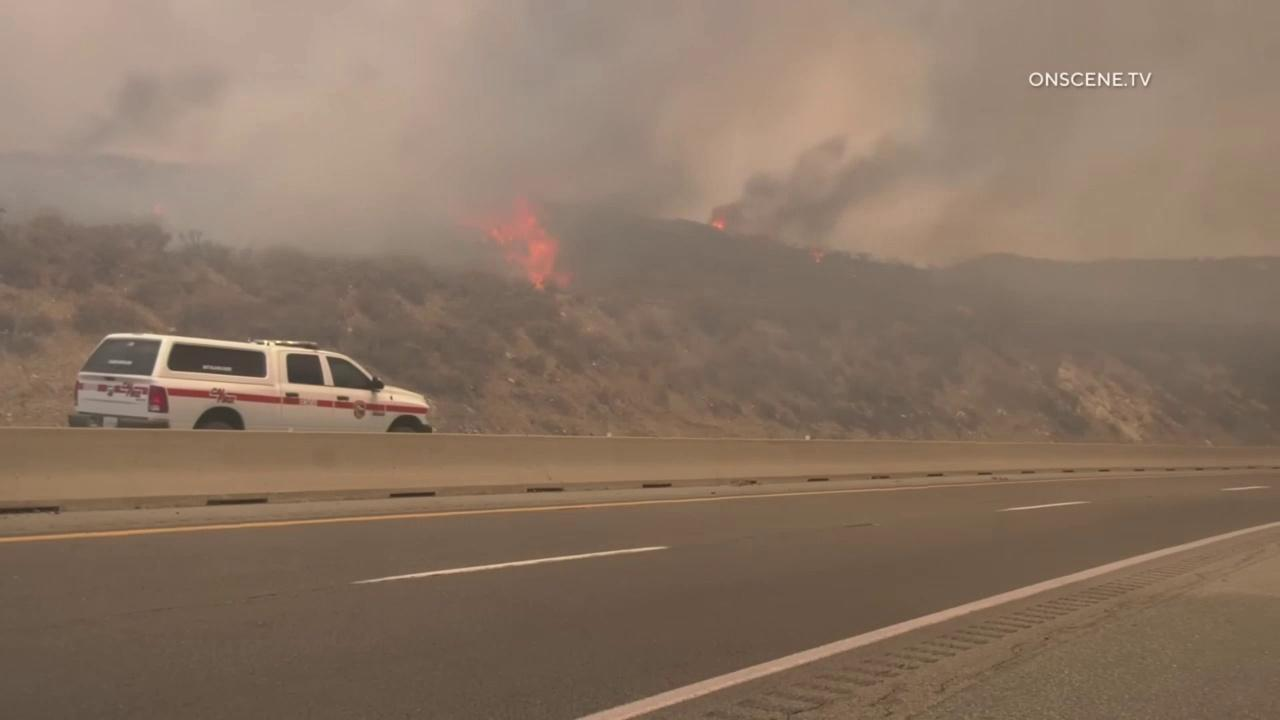fire: (458, 194, 573, 294), (808, 246, 826, 264), (149, 200, 164, 216), (710, 218, 726, 230)
smoke: (0, 0, 1280, 318)
